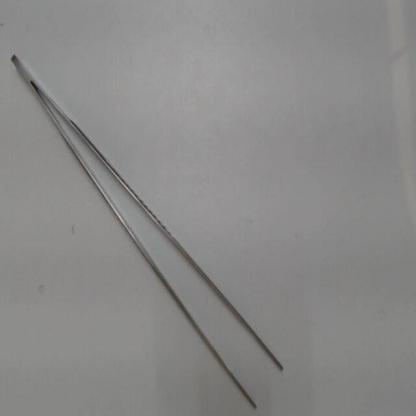DeBakey Dissector: (2, 41, 291, 414)
